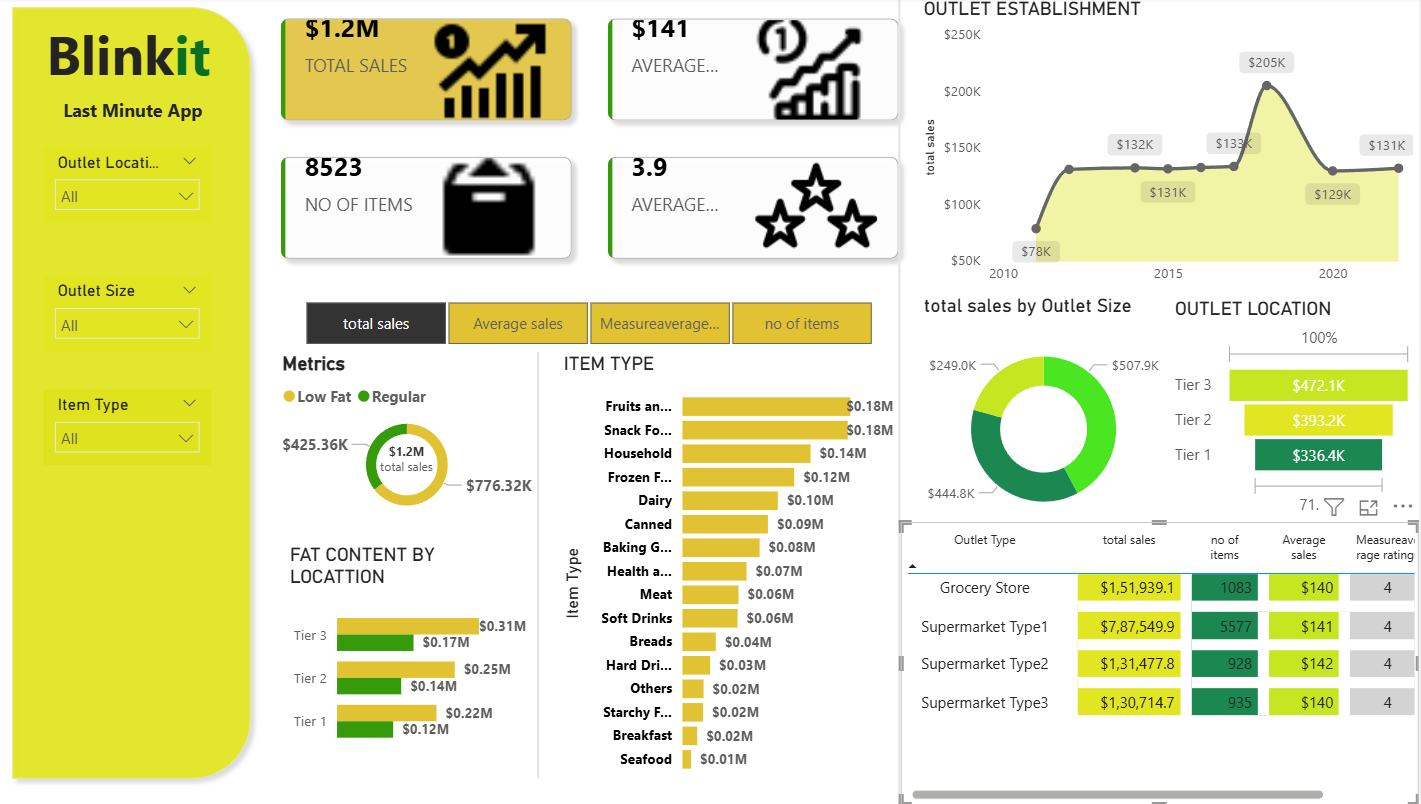

This screenshot's page, from the dashboard's own definition file:
{"tool":"powerbi","page":{"name":"Page 1","canvas":[1280,720],"ordinal":0},"visuals":[{"type":"shape","box":[17.8,0,230.5,705.3],"z":0},{"type":"textbox","box":[56.3,85.1,155.1,41.2],"z":1000},{"type":"textbox","box":[17.8,12.3,225,93.3],"z":2000},{"type":"donutChart","title":"Metrics","fields":{"Y":["BlinkIT Grocery Data.total sales"],"Category":["BlinkIT Grocery Data.Item Fat Content"]},"box":[263,316.1,231.6,152],"z":3000},{"type":"slicer","fields":{"Values":["metrics.metrics"]},"box":[263,265.4,553.8,50.7],"z":4000},{"type":"cardVisual","fields":{"Data":["BlinkIT Grocery Data.total sales"]},"box":[335.4,383.6,86.9,55.5],"z":5000},{"type":"clusteredBarChart","title":"FAT CONTENT BY LOCATTION","fields":{"Y":["BlinkIT Grocery Data.total sales"],"Category":["BlinkIT Grocery Data.Outlet Location Type"],"Series":["BlinkIT Grocery Data.Item Fat Content"]},"box":[269,486.2,220.8,195.4],"z":6000},{"type":"shape","box":[389.7,315.6,211.3,380.1],"z":7000},{"type":"barChart","title":"ITEM TYPE","fields":{"Y":["BlinkIT Grocery Data.total sales"],"Category":["BlinkIT Grocery Data.Item Type"]},"box":[512.7,316.1,304,384.9],"z":8000},{"type":"cardVisual","fields":{"Data":["BlinkIT Grocery Data.total sales","BlinkIT Grocery Data.Average sales","BlinkIT Grocery Data.no of items","BlinkIT Grocery Data.Measureaverage ratings"]},"box":[249.7,2.4,585.1,249.7],"z":9000},{"type":"shape","box":[711.8,0,211.1,720.2],"z":10000},{"type":"lineChart","title":"OUTLET ESTABLISHMENT","fields":{"Category":["BlinkIT Grocery Data.Outlet Establishment Year"],"Y":["BlinkIT Grocery Data.total sales"]},"box":[834.3,0,446,264.8],"z":11000},{"type":"donutChart","fields":{"Y":["BlinkIT Grocery Data.total sales"],"Category":["BlinkIT Grocery Data.Outlet Size"]},"box":[834.3,264.8,223.7,220.9],"z":12000},{"type":"funnel","title":"OUTLET LOCATION","fields":{"Category":["BlinkIT Grocery Data.Outlet Location Type"],"Y":["BlinkIT Grocery Data.total sales"]},"box":[1058,267.6,222.3,200.3],"z":13000},{"type":"tableEx","fields":{"Values":["BlinkIT Grocery Data.Outlet Type","BlinkIT Grocery Data.total sales","BlinkIT Grocery Data.no of items","BlinkIT Grocery Data.Average sales","BlinkIT Grocery Data.Measureaverage ratings","Sum(BlinkIT Grocery Data.Item Visibility)"]},"box":[817.8,467.9,462.4,252.5],"z":14000},{"type":"slicer","fields":{"Values":["BlinkIT Grocery Data.Outlet Location Type"]},"box":[54.9,133.1,149.6,67.2],"z":14001},{"type":"slicer","fields":{"Values":["BlinkIT Grocery Data.Outlet Size"]},"box":[54.9,248.4,149.6,67.2],"z":14002},{"type":"slicer","fields":{"Values":["BlinkIT Grocery Data.Item Type"]},"box":[54.9,349.9,149.6,67.2],"z":14003}]}

Visuals, with their boxes in screenshot pixels (x1, y1, x2, y2), scaled from the page's 1280x720 canvas onto the 1421x804 screenshot:
shape: {"left": 20, "top": 0, "right": 276, "bottom": 788}
textbox: {"left": 63, "top": 95, "right": 235, "bottom": 141}
textbox: {"left": 20, "top": 14, "right": 270, "bottom": 118}
"Metrics" donutChart: {"left": 292, "top": 353, "right": 549, "bottom": 523}
slicer - metrics.metrics: {"left": 292, "top": 296, "right": 907, "bottom": 353}
cardVisual - BlinkIT Grocery Data.total sales: {"left": 372, "top": 428, "right": 469, "bottom": 490}
"FAT CONTENT BY LOCATTION" clusteredBarChart: {"left": 299, "top": 543, "right": 544, "bottom": 761}
shape: {"left": 433, "top": 352, "right": 667, "bottom": 777}
"ITEM TYPE" barChart: {"left": 569, "top": 353, "right": 907, "bottom": 783}
cardVisual - BlinkIT Grocery Data.total sales x BlinkIT Grocery Data.Average sales: {"left": 277, "top": 3, "right": 927, "bottom": 282}
shape: {"left": 790, "top": 0, "right": 1025, "bottom": 803}
"OUTLET ESTABLISHMENT" lineChart: {"left": 926, "top": 0, "right": 1420, "bottom": 296}
donutChart - BlinkIT Grocery Data.total sales x BlinkIT Grocery Data.Outlet Size: {"left": 926, "top": 296, "right": 1175, "bottom": 542}
"OUTLET LOCATION" funnel: {"left": 1175, "top": 299, "right": 1420, "bottom": 522}
tableEx - BlinkIT Grocery Data.Outlet Type x BlinkIT Grocery Data.total sales: {"left": 908, "top": 522, "right": 1420, "bottom": 803}
slicer - BlinkIT Grocery Data.Outlet Location Type: {"left": 61, "top": 149, "right": 227, "bottom": 224}
slicer - BlinkIT Grocery Data.Outlet Size: {"left": 61, "top": 277, "right": 227, "bottom": 352}
slicer - BlinkIT Grocery Data.Item Type: {"left": 61, "top": 391, "right": 227, "bottom": 466}
